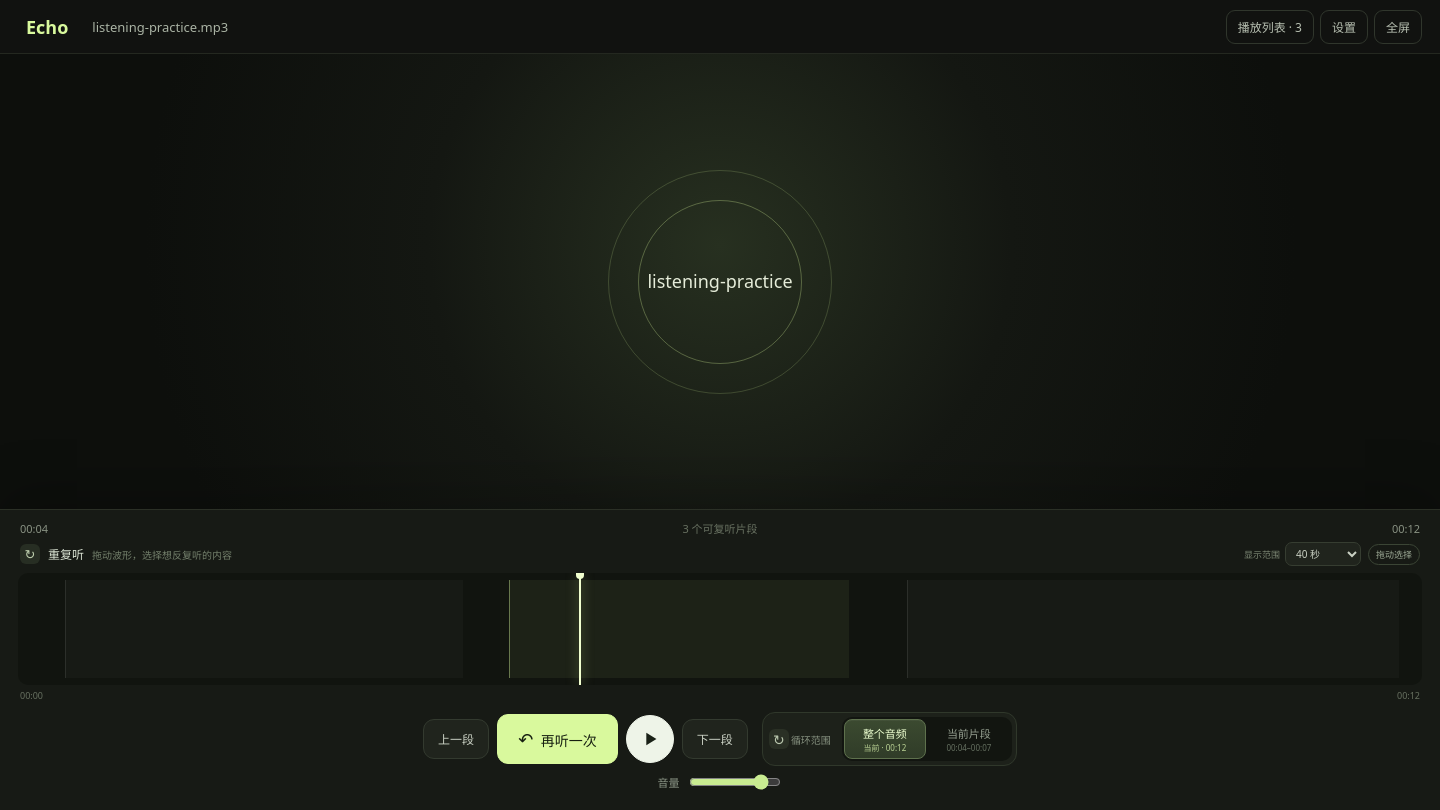
Test: selection loop workbench › moves an active current-segment loop to the segment clicked on the waveform
The image size is (1440, 810).
Click the button with aria-label "循环当前片段" at (969, 739), box x1=928 y1=719 x2=1010 y2=759
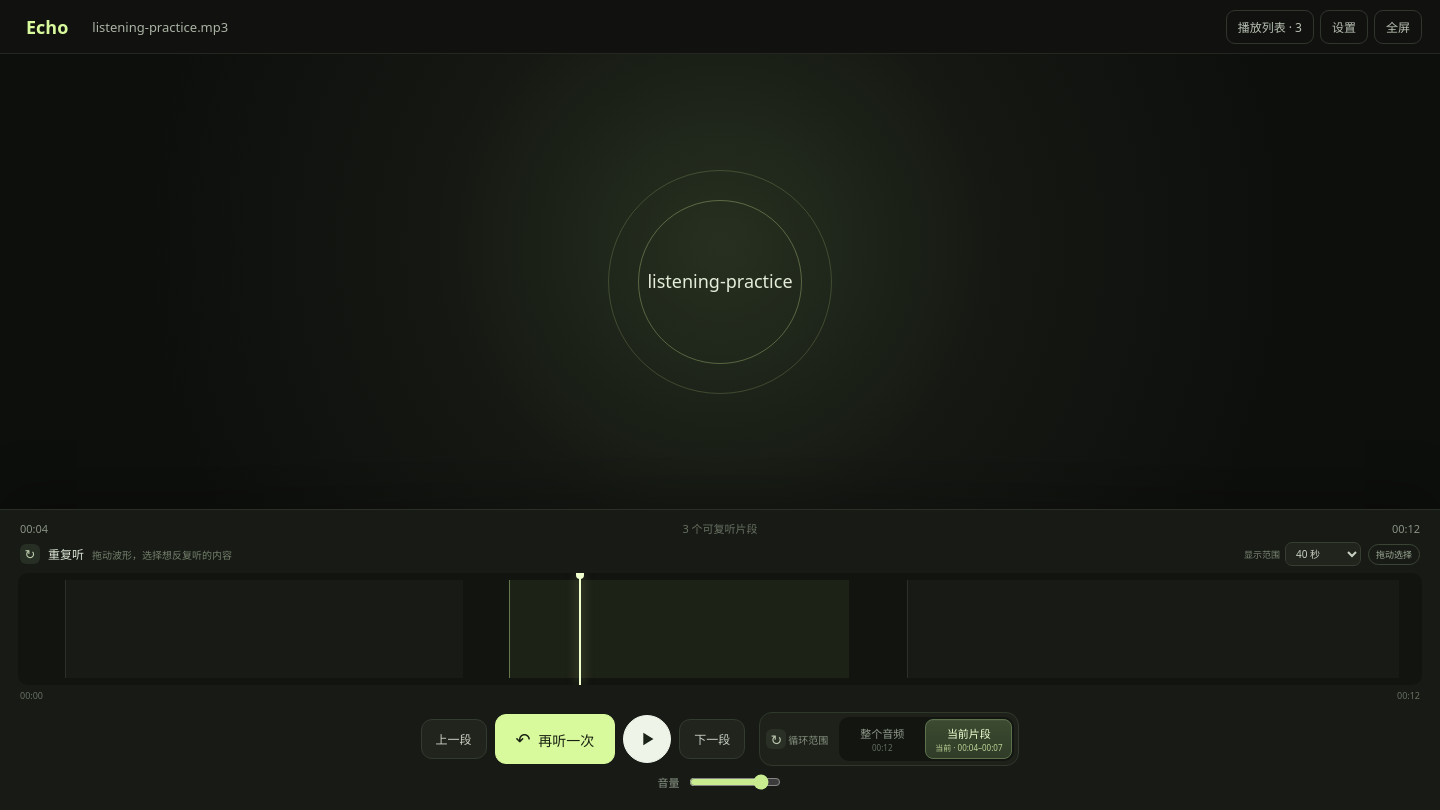
Press the mouse on the slider named "拖动选择要重复听的内容" at (720, 629), box x1=18 y1=573 x2=1422 y2=685
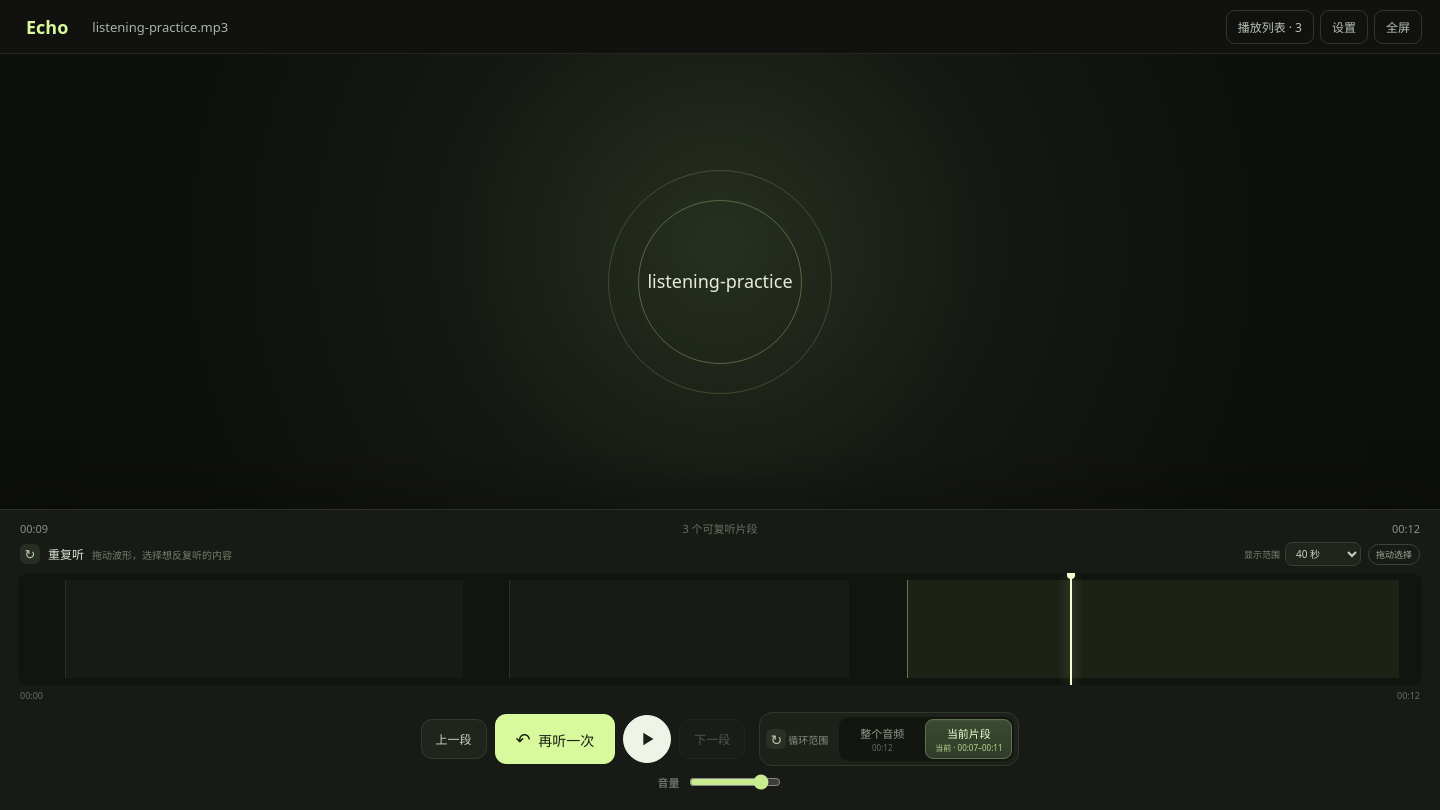
Expected: the button with aria-label "循环当前片段" shows "00:07–00:11", x1=925 y1=719 x2=1012 y2=759
